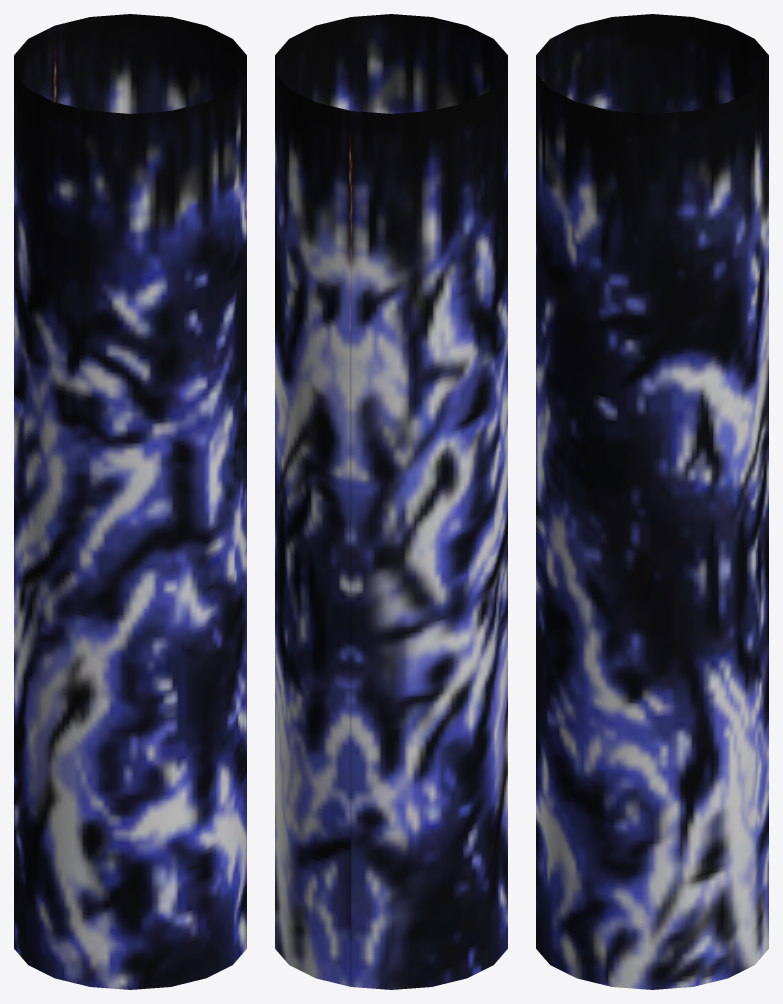
File: fbx_fx_chuansongzhen1_2.FBX
3 views of the same model, side by side, from view 1: azimuth 30°, elevation 25°; view 2: azimuth 150°, elevation 25°; view 3: azimuth 270°, elevation 25° (orthographic).
Visible parts, largest first — view 1: Cylinder003; view 2: Cylinder003; view 3: Cylinder003.
Boxes of the visible parts, <box> form: Cylinder003: <box>14,14,246,989</box>; Cylinder003: <box>275,14,507,989</box>; Cylinder003: <box>536,14,768,989</box>.
Bounding box in the file's own units: 121 × 119 × 495.
